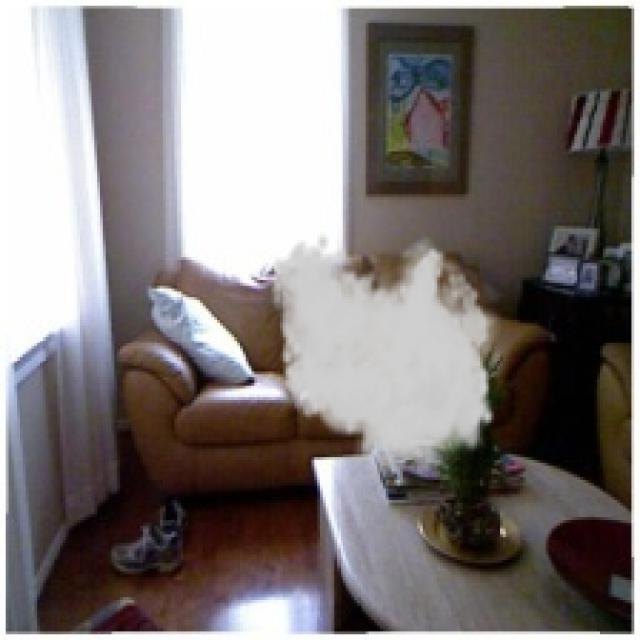smoke: (268, 231, 508, 486)
